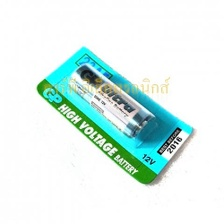battery: (67, 62, 156, 147)
book: (30, 38, 200, 191)
